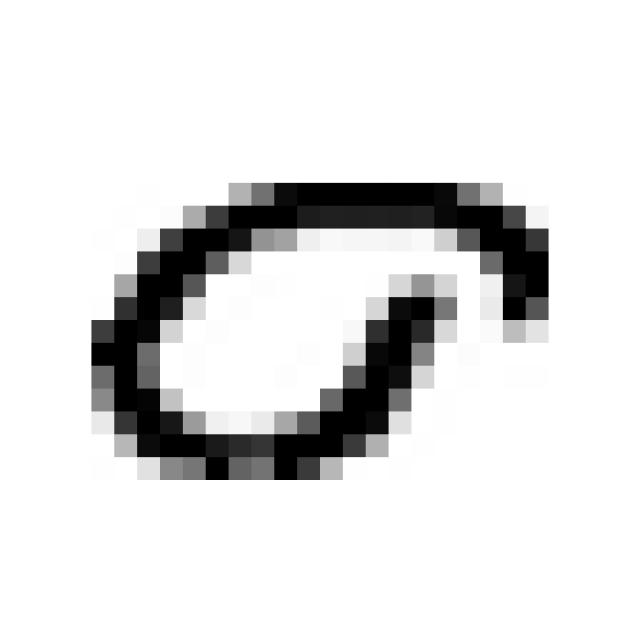5 -five-: (73, 158, 568, 499)
